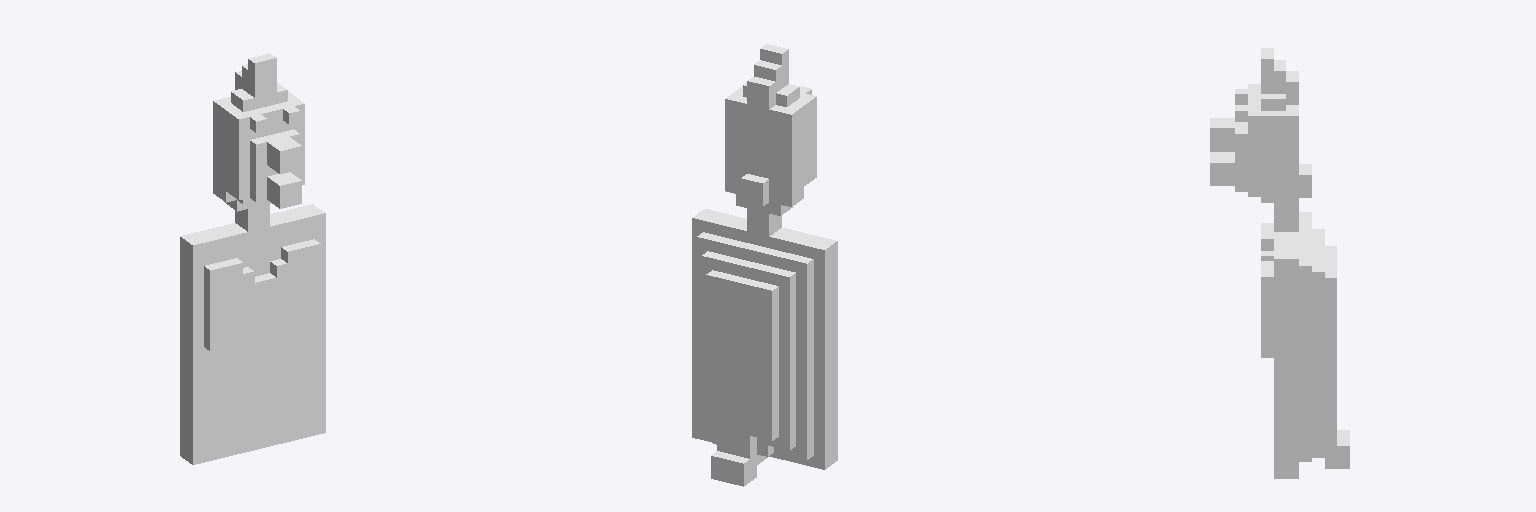
Rendered from Chicken_Body.obj.
The picture shows the model from 3 angles: view 1: azimuth 30°, elevation 25°; view 2: azimuth 150°, elevation 25°; view 3: azimuth 270°, elevation 25°; orthographic projection.
Visible parts, largest first — view 1: object 1; view 2: object 1; view 3: object 1.
Boxes of the visible parts, <box> form: object 1: <box>180,53,325,464</box>; object 1: <box>692,44,837,486</box>; object 1: <box>1210,48,1349,478</box>.
Bounding box in the file's own units: 1.2 × 3.5 × 1.1.